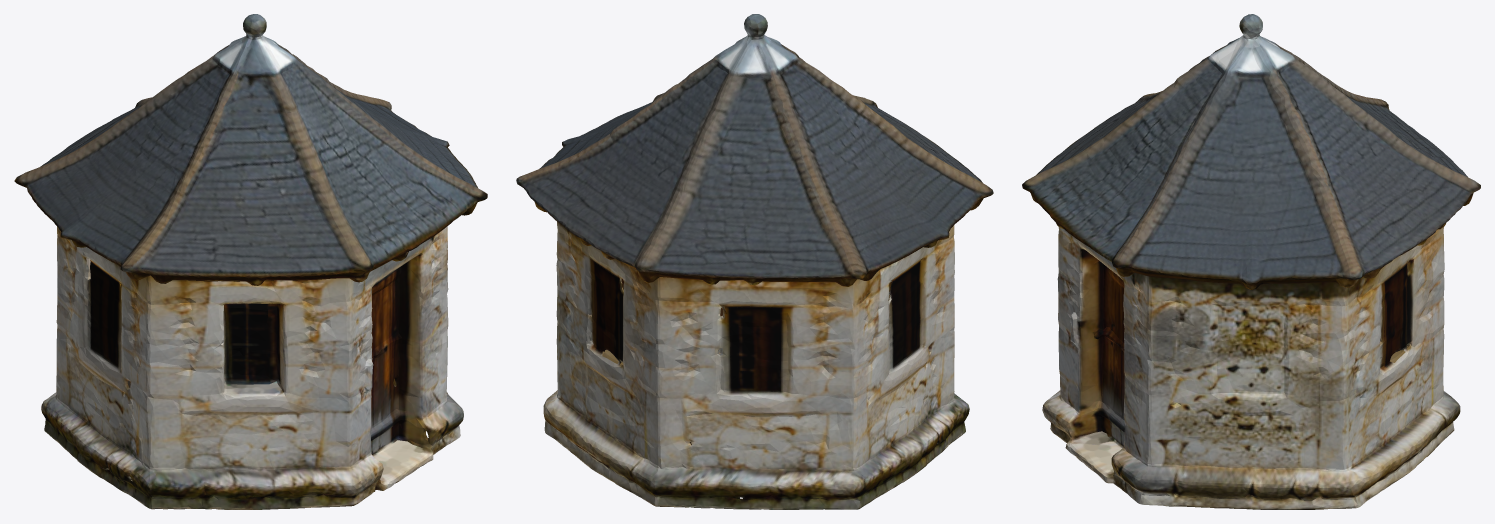
The model's file is mdl_guardhouse_001.glb.
3 renders of one model, left to right at view 1: azimuth 30°, elevation 25°; view 2: azimuth 150°, elevation 25°; view 3: azimuth 270°, elevation 25°, orthographic.
Visible parts, largest first — view 1: tmp6ikzrg4q.ply; view 2: tmp6ikzrg4q.ply; view 3: tmp6ikzrg4q.ply.
Boxes of the visible parts, x1,y1,x2,y2 form: tmp6ikzrg4q.ply: [14, 14, 487, 509]; tmp6ikzrg4q.ply: [516, 14, 993, 509]; tmp6ikzrg4q.ply: [1022, 14, 1480, 509].
Bounding box in the file's own units: 0.9585 × 0.9894 × 0.9876.
Materials: 1 (1 with a texture image).
